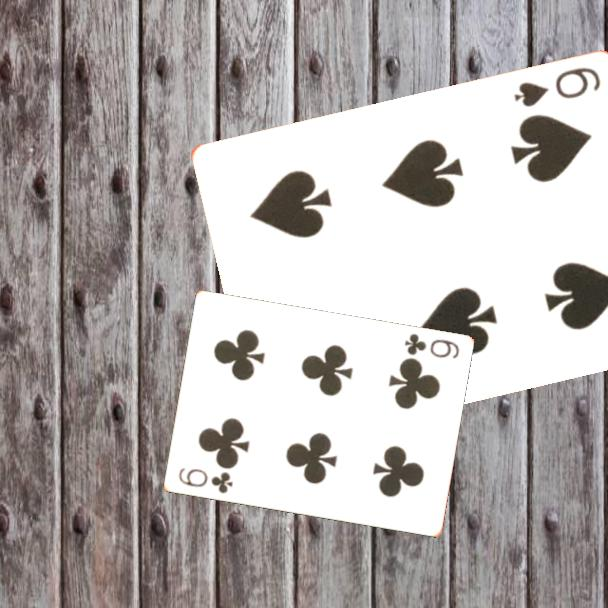c06: (175, 464, 235, 497), (401, 330, 462, 362)
s06: (510, 64, 603, 111)
